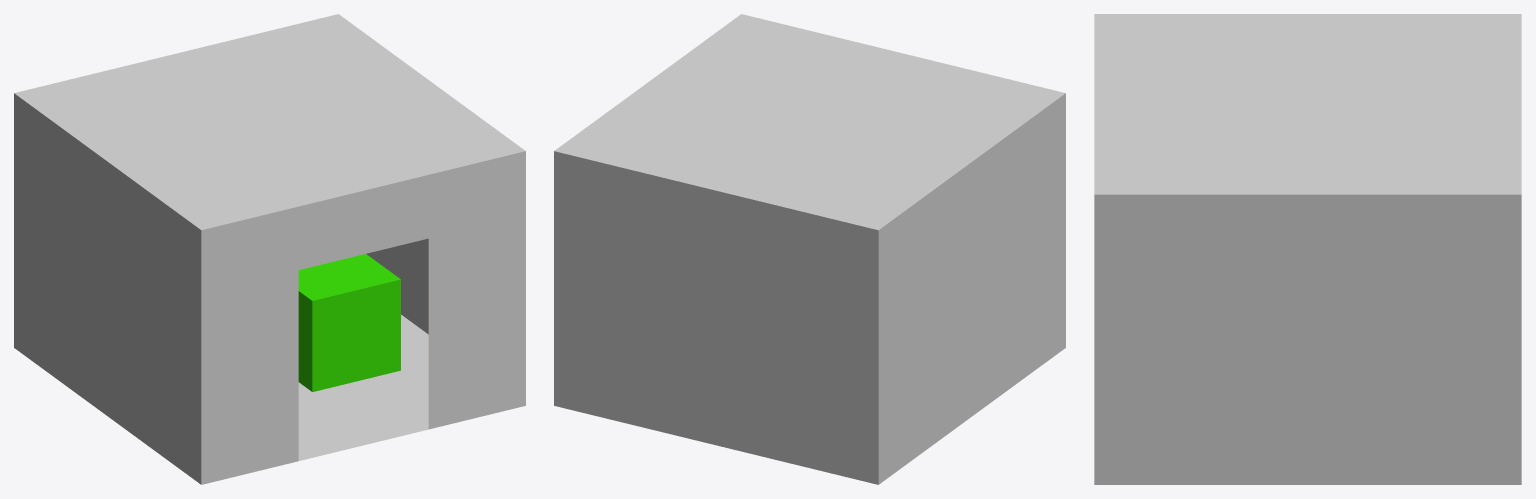
Rendered from artifact.glb.
The picture shows the model from 3 angles, left to right: view 1: azimuth 30°, elevation 25°; view 2: azimuth 150°, elevation 25°; view 3: azimuth 270°, elevation 25°; orthographic projection. The views are drawn at different scales.
Parts seen in each view (by area): view 1: clip, Cube.001, door; view 2: clip; view 3: clip.
Part boxes in pixels (x1,y1,x2,y2): clip: (14, 14, 525, 484); Cube.001: (298, 254, 400, 391); door: (292, 227, 435, 462); clip: (554, 14, 1065, 484); clip: (1094, 14, 1521, 484).
Size of the model in its own units: 4 by 3.02 by 4.
